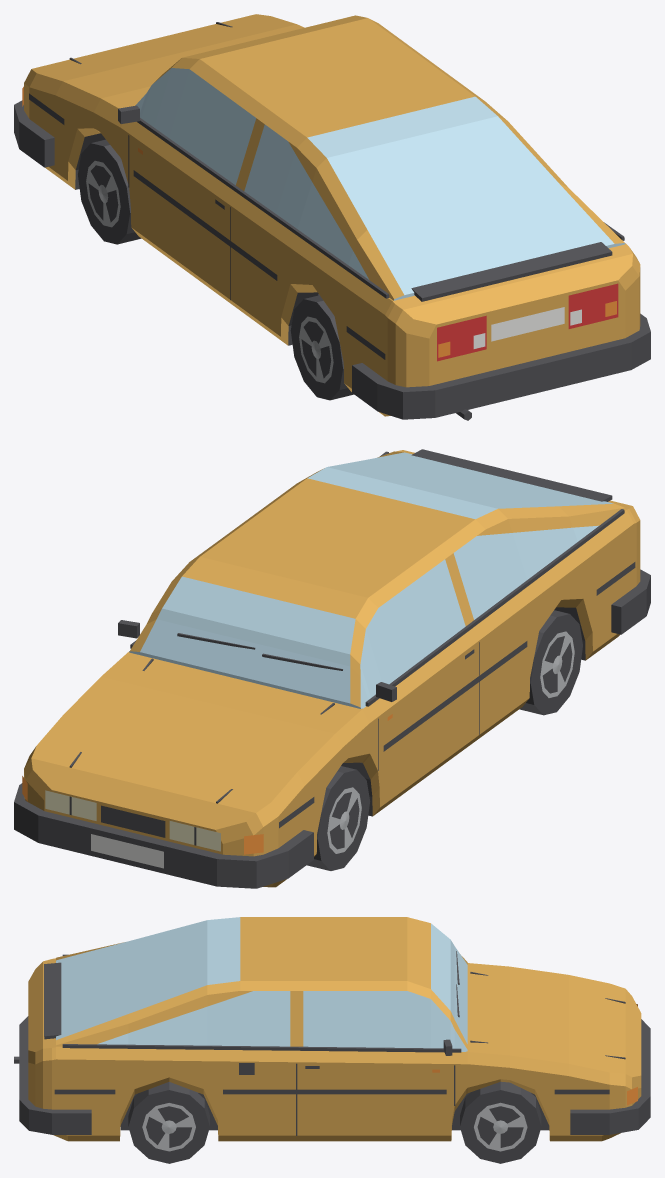
The model's file is saab_900.glb.
3 renders of one model, top to bottom at view 1: azimuth 30°, elevation 25°; view 2: azimuth 150°, elevation 25°; view 3: azimuth 270°, elevation 25°, orthographic. The views are drawn at different scales.
Visible parts, largest first — view 1: body, door_FL, wheel_FL, wheel_RL; view 2: body, door_FL, wheel_RL, wheel_FL; view 3: body, door_FR, wheel_FR, wheel_RR.
Part boxes in pixels (x1,y1,x2,y2): body: (14, 14, 650, 420); door_FL: (129, 68, 260, 308); wheel_FL: (78, 139, 141, 244); wheel_RL: (290, 295, 353, 400); body: (14, 449, 650, 888); door_FL: (360, 556, 479, 816); wheel_RL: (519, 610, 582, 715); wheel_FL: (307, 766, 370, 870); body: (14, 917, 650, 1141); door_FR: (296, 991, 454, 1141); wheel_FR: (460, 1081, 541, 1163); wheel_RR: (128, 1082, 209, 1163).
Bounding box in the file's own units: 1.89 × 1.42 × 4.84.
